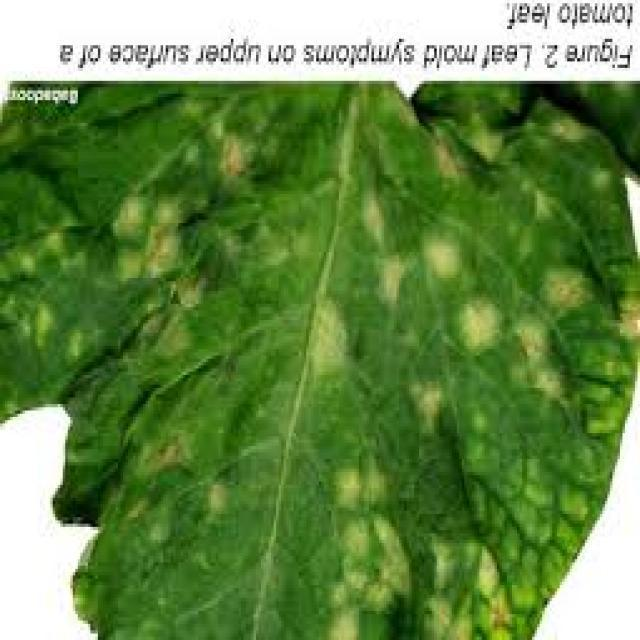Mosaic Virus: (0, 108, 636, 640)
